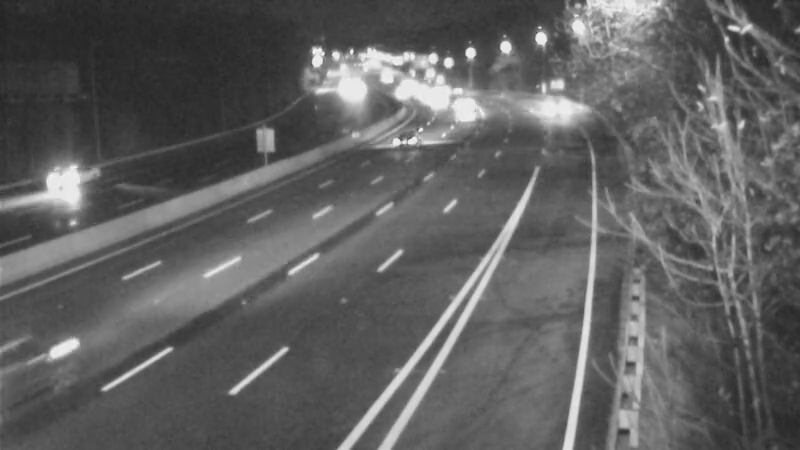vehicle: (1, 323, 96, 433), (24, 144, 104, 224), (406, 83, 456, 133), (516, 75, 566, 125), (442, 79, 492, 129), (441, 92, 491, 142), (389, 106, 439, 156)
